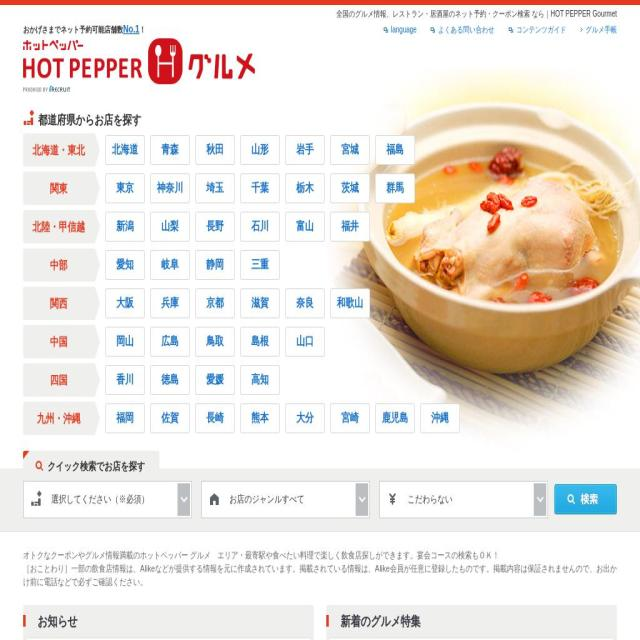button: (23, 481, 192, 518), (201, 481, 370, 518), (380, 481, 548, 518), (150, 174, 190, 203), (240, 174, 280, 203), (330, 174, 370, 203), (150, 212, 190, 241), (240, 212, 280, 241), (330, 212, 370, 241), (150, 289, 190, 318), (240, 289, 280, 318), (330, 289, 370, 318), (150, 327, 190, 356), (240, 327, 280, 356), (150, 404, 190, 433), (240, 404, 280, 433), (330, 404, 370, 433), (420, 404, 460, 433), (150, 136, 190, 164), (240, 136, 280, 164), (330, 136, 370, 164), (150, 251, 190, 279), (240, 251, 280, 279), (150, 366, 190, 394), (240, 366, 280, 394), (106, 174, 144, 203), (196, 174, 234, 203), (286, 174, 324, 203), (376, 174, 414, 203), (106, 212, 144, 241), (196, 212, 234, 241), (286, 212, 324, 241), (106, 289, 144, 318), (196, 289, 234, 318), (286, 289, 324, 318), (106, 327, 144, 356), (196, 327, 234, 356), (286, 327, 324, 356), (106, 404, 144, 433), (196, 404, 234, 433), (286, 404, 324, 433), (376, 404, 414, 433), (106, 136, 144, 164), (196, 136, 234, 164), (286, 136, 324, 164), (376, 136, 414, 164), (106, 251, 144, 279), (196, 251, 234, 279), (106, 366, 144, 394), (196, 366, 234, 394)
heading: (23, 38, 255, 94), (38, 113, 617, 126), (47, 476, 145, 538), (37, 614, 311, 629), (340, 614, 614, 629), (23, 25, 123, 34), (123, 23, 139, 35), (140, 25, 146, 34)
image: (326, 49, 640, 466), (554, 484, 617, 515)
link: (438, 25, 495, 34), (516, 25, 567, 34), (586, 25, 616, 34), (391, 25, 417, 34)
text: (23, 563, 617, 587), (25, 483, 190, 516), (203, 483, 368, 516), (382, 483, 546, 516), (23, 550, 499, 560), (336, 8, 617, 20), (23, 133, 95, 167), (23, 248, 95, 282), (23, 363, 95, 397), (23, 172, 95, 205), (23, 210, 95, 243), (23, 287, 95, 320), (23, 325, 95, 358), (23, 402, 95, 435)
